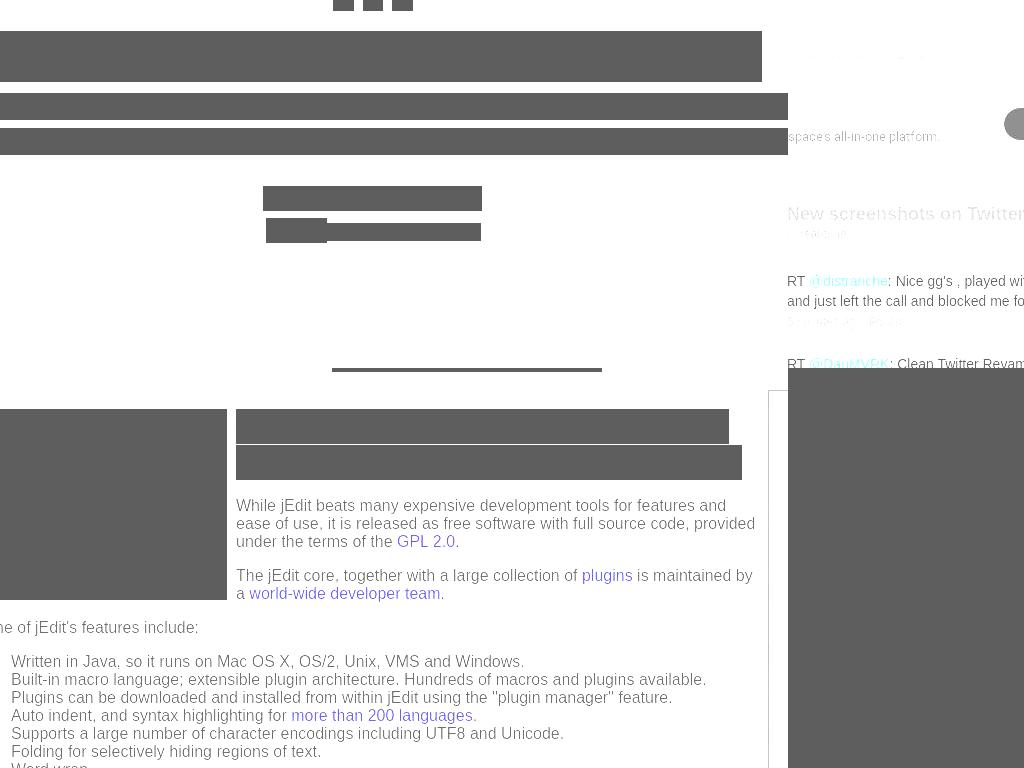heading: (0, 31, 571, 82), (569, 31, 762, 82)
iframe: (788, 79, 1024, 169)
image: (788, 368, 1024, 768), (0, 409, 227, 600), (333, 0, 354, 11), (392, 0, 413, 11), (363, 0, 383, 11), (772, 416, 784, 428), (772, 437, 784, 449), (772, 458, 784, 470), (772, 479, 784, 491), (772, 500, 784, 512), (772, 521, 784, 533), (772, 542, 784, 554), (772, 563, 784, 575), (772, 605, 784, 617), (772, 626, 784, 638), (772, 668, 784, 680), (772, 689, 784, 701), (772, 710, 784, 722), (772, 752, 784, 764)
link: (249, 585, 442, 602), (291, 707, 474, 724), (409, 186, 482, 211), (302, 463, 382, 480), (809, 273, 889, 289), (236, 445, 305, 462), (396, 533, 455, 550), (809, 356, 890, 368), (581, 567, 633, 584)
text: (236, 497, 755, 550), (0, 93, 788, 120), (0, 128, 788, 155), (236, 567, 752, 602), (236, 445, 742, 480), (236, 409, 729, 444), (0, 619, 756, 637), (11, 653, 756, 671), (11, 671, 756, 689), (11, 689, 756, 707), (11, 725, 756, 743), (11, 743, 756, 761), (788, 273, 1024, 309), (236, 567, 582, 584), (11, 761, 756, 768), (11, 707, 291, 724), (788, 204, 1024, 224), (788, 224, 1024, 244), (263, 186, 410, 211), (326, 223, 481, 241), (887, 273, 1024, 289), (889, 356, 1024, 368), (266, 218, 327, 243), (788, 315, 862, 329), (381, 463, 426, 480), (862, 315, 909, 329), (788, 273, 809, 289), (788, 356, 809, 368), (772, 583, 788, 598), (772, 646, 788, 661), (455, 533, 461, 550), (440, 585, 445, 602), (472, 707, 477, 724)
